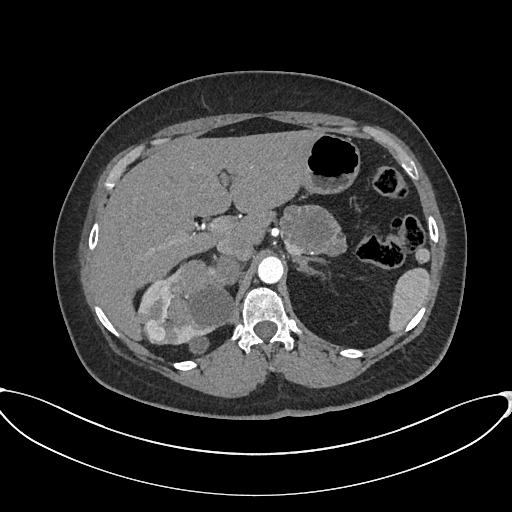Lesion: (141, 319, 167, 347)
